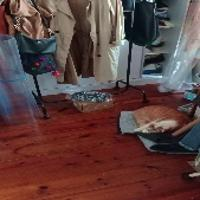asleep: (133, 105, 190, 132)
